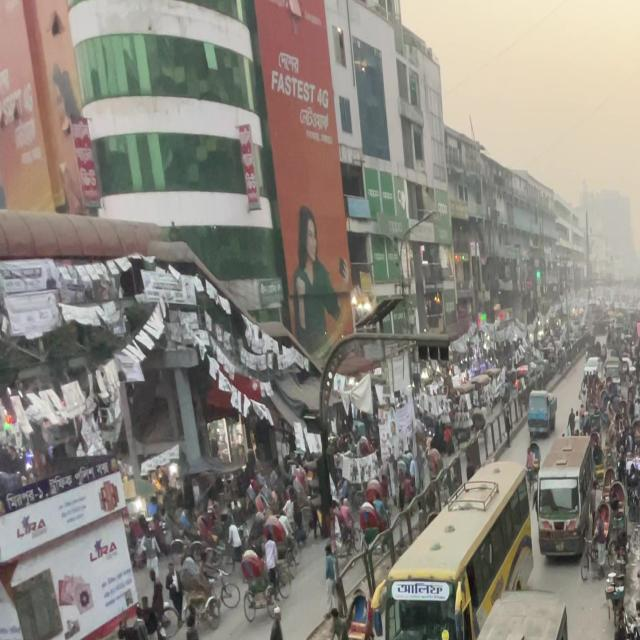bus: (379, 434, 534, 640), (412, 583, 573, 640), (536, 423, 593, 567)
motorbike: (601, 617, 639, 640)
van: (522, 382, 566, 434)
